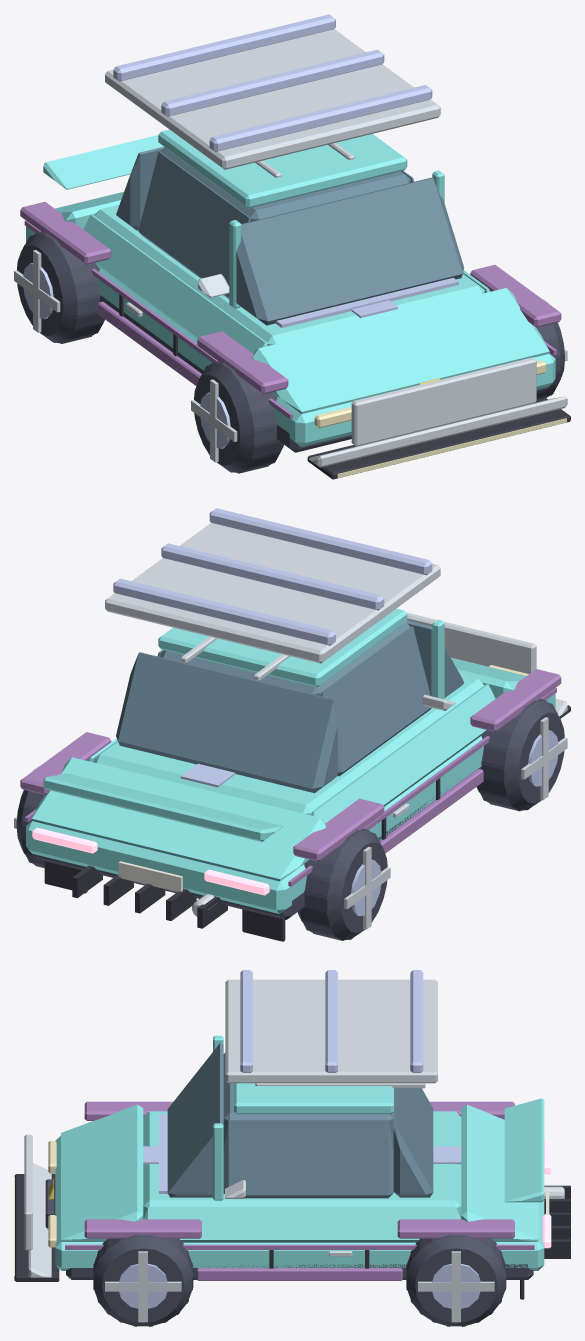
File: rooftop_taxi.fbx
3 views of the same model, one above another, from view 1: azimuth 30°, elevation 25°; view 2: azimuth 150°, elevation 25°; view 3: azimuth 270°, elevation 25° (orthographic). The views are drawn at different scales.
Visible parts, largest first — view 1: Body, Glass, Accent2, Accent3, Metal, Accent, Wheel_FR, Wheel_RR, Trim, Light, Metal2, Trim2 (+1 smaller); view 2: Body, Glass, Accent2, Accent3, Accent, Metal, Wheel_RR, Wheel_FR, Trim, Light2, Metal2, Trim2 (+3 smaller); view 3: Body, Glass, Accent2, Accent, Wheel_RL, Wheel_FL, Accent3, Metal, Trim, Metal2, Trim2, Light3 (+2 smaller).
Boxes of the visible parts, bbox=[...] form: Body: bbox=[26, 129, 555, 446]; Glass: bbox=[116, 146, 464, 325]; Accent2: bbox=[105, 29, 567, 467]; Accent3: bbox=[113, 14, 458, 327]; Metal: bbox=[14, 250, 567, 462]; Accent: bbox=[20, 201, 561, 419]; Wheel_FR: bbox=[194, 361, 283, 473]; Wheel_RR: bbox=[17, 231, 104, 343]; Trim: bbox=[119, 294, 570, 479]; Light: bbox=[314, 360, 566, 477]; Metal2: bbox=[23, 263, 230, 448]; Trim2: bbox=[100, 295, 548, 452]; Body: bbox=[26, 608, 555, 913]; Glass: bbox=[116, 620, 463, 792]; Accent2: bbox=[105, 523, 567, 716]; Accent3: bbox=[113, 508, 432, 645]; Accent: bbox=[20, 669, 561, 886]; Metal: bbox=[14, 612, 567, 929]; Wheel_RR: bbox=[297, 828, 387, 940]; Wheel_FR: bbox=[476, 699, 564, 811]; Trim: bbox=[44, 705, 570, 941]; Light2: bbox=[32, 827, 269, 895]; Metal2: bbox=[351, 730, 558, 916]; Trim2: bbox=[33, 766, 481, 919]; Body: bbox=[55, 1035, 544, 1270]; Glass: bbox=[167, 1043, 433, 1198]; Accent2: bbox=[28, 979, 437, 1277]; Accent: bbox=[65, 1101, 534, 1280]; Wheel_RL: bbox=[406, 1235, 506, 1326]; Wheel_FL: bbox=[93, 1235, 193, 1326]; Accent3: bbox=[159, 970, 423, 1193]; Metal: bbox=[24, 1134, 564, 1322]; Trim: bbox=[14, 1174, 570, 1299]; Metal2: bbox=[119, 1263, 480, 1308]; Trim2: bbox=[45, 1179, 533, 1279]; Light3: bbox=[143, 1146, 461, 1164].
Bounding box in the file's own units: 3.2 × 2.54 × 5.24.
